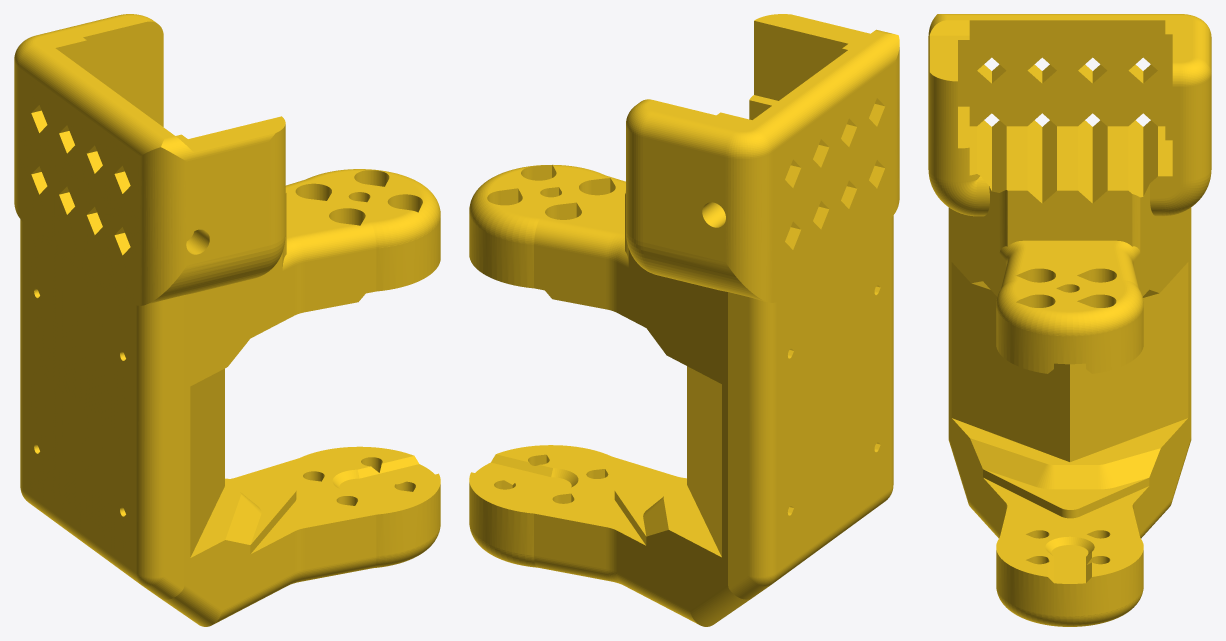
The model's file is shoulder_visuals_rotation_pitch_so101_v1_mesh.obj.
3 views of the same model, side by side, from view 1: azimuth 30°, elevation 25°; view 2: azimuth 150°, elevation 25°; view 3: azimuth 270°, elevation 25° (orthographic). The views are drawn at different scales.
Size of the model in its own units: 0.0598 by 0.0842 by 0.046.
